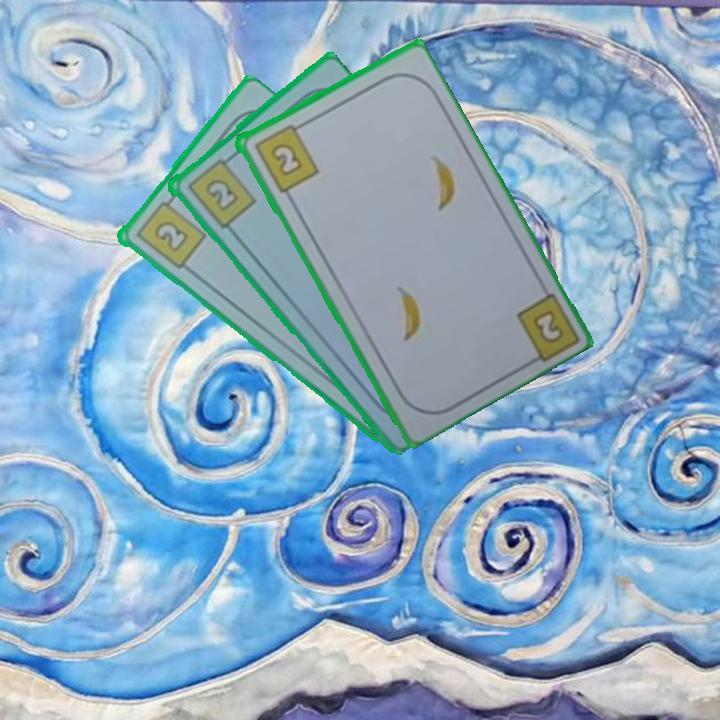2b: (131, 192, 208, 272), (183, 152, 258, 231), (250, 119, 321, 196), (528, 306, 567, 346)
